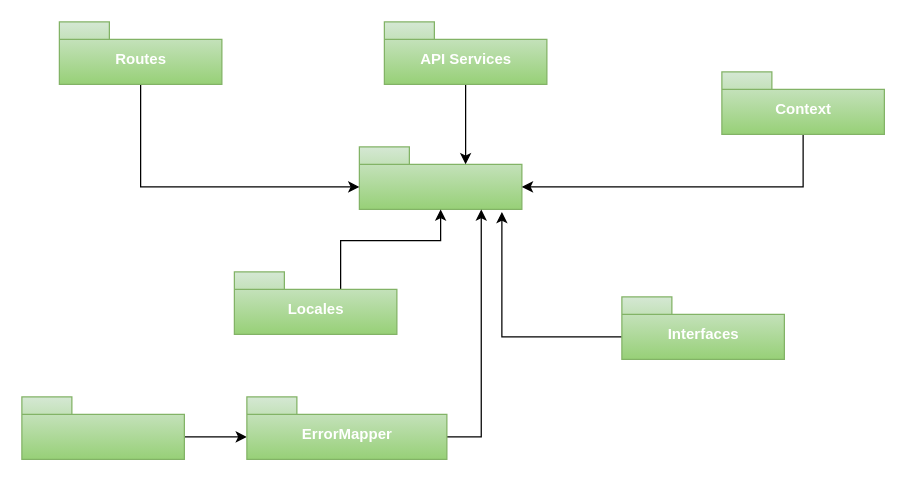
This 906x481 diagram has some shape labels left out. Each missing label, with the centre of its shape:
Components: (x=440, y=177)
Enum: (x=102, y=427)
